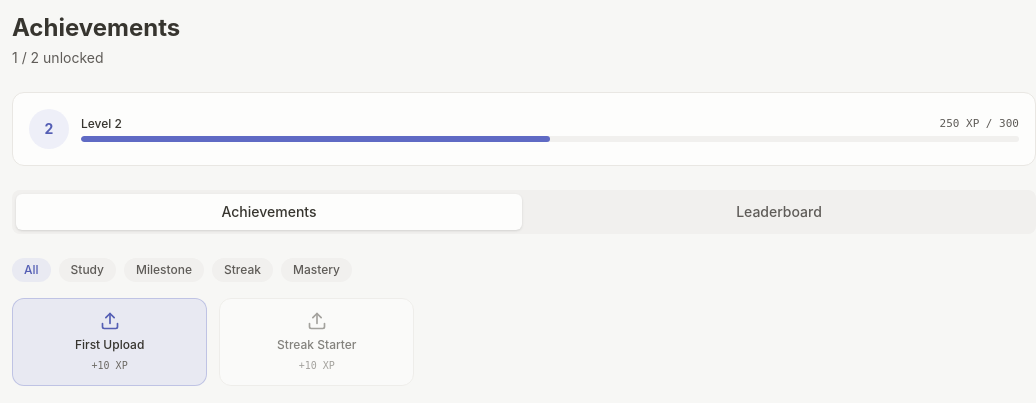
Test: AchievementsPage category filter › filters achievements when a category pill is clicked
Expected: the text "First Upload" is shown, [75, 337, 144, 352]
Expected: the text "Streak Starter" is shown, [277, 337, 356, 352]
Click the button "Streak": (242,270) [212, 258, 273, 282]
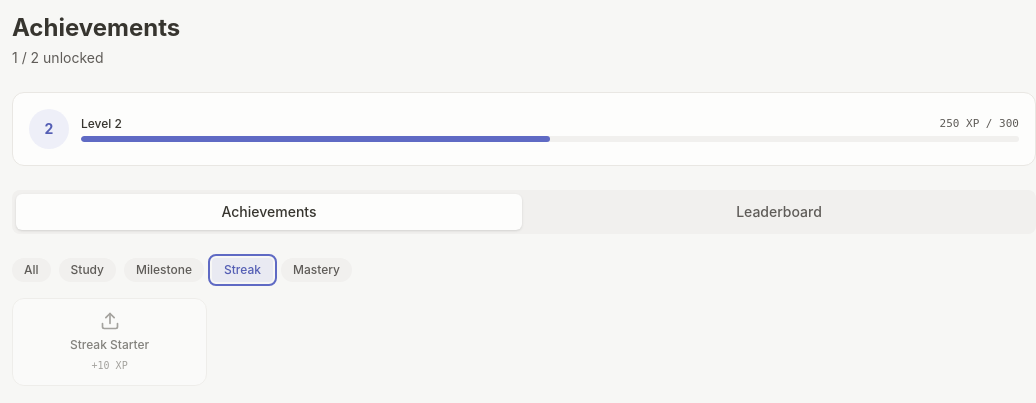
Expected: the text "Streak Starter" is shown, [70, 337, 149, 352]
Result: the text "First Upload" is gone
